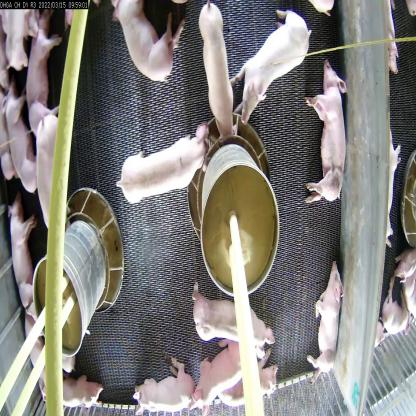Pig: (234, 10, 306, 143), (108, 0, 183, 90), (309, 63, 350, 226), (191, 281, 267, 359), (125, 134, 201, 206), (198, 0, 235, 143), (21, 4, 64, 125), (29, 122, 74, 229), (3, 83, 44, 198), (130, 346, 198, 414), (19, 297, 60, 397), (6, 194, 41, 306), (312, 262, 347, 368), (191, 345, 254, 402), (228, 363, 280, 410), (52, 376, 110, 415)
